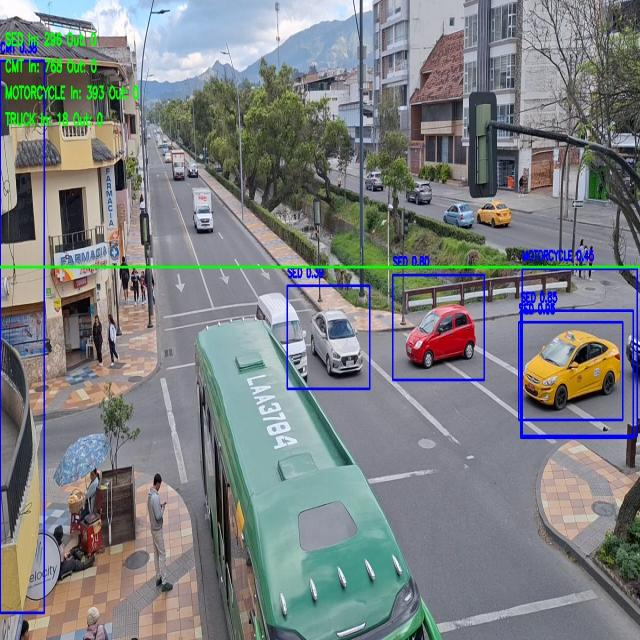CMT: (194, 187, 213, 231)
SED: (526, 334, 618, 404), (408, 310, 474, 366), (316, 315, 363, 375), (480, 202, 510, 226), (445, 204, 473, 228)
SUV: (411, 182, 432, 202)
TRUCK: (173, 152, 184, 181)
